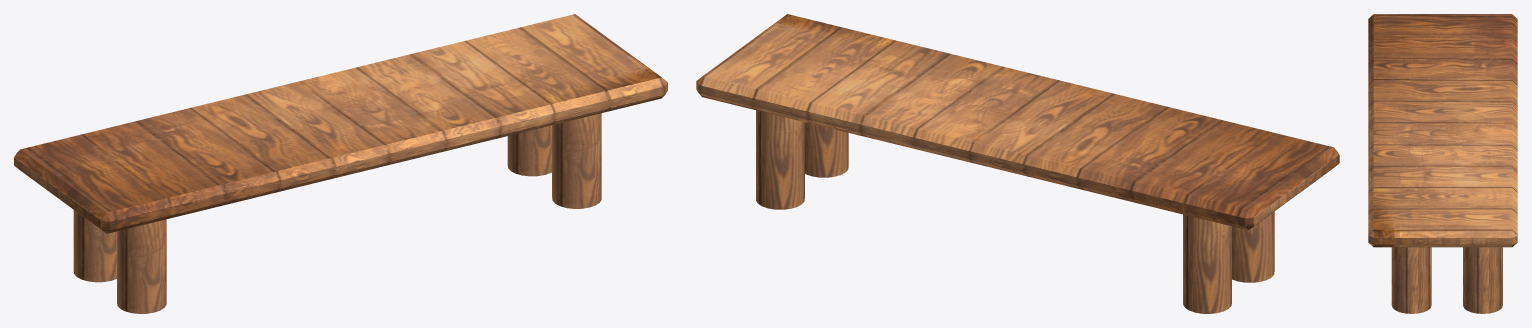
The model's file is Banco.obj.
3 renders of one model, left to right at view 1: azimuth 30°, elevation 25°; view 2: azimuth 150°, elevation 25°; view 3: azimuth 270°, elevation 25°, orthographic. The views are drawn at different scales.
Visible parts, largest first — view 1: Banco:pCylinder2; view 2: Banco:pCylinder2; view 3: Banco:pCylinder2.
Boxes of the visible parts, x1,y1,x2,y2 form: Banco:pCylinder2: (14,14,667,313); Banco:pCylinder2: (696,14,1339,313); Banco:pCylinder2: (1368,14,1517,313).
Size of the model in its own units: 1.14 by 0.2373 by 0.3255.
Materials: 1 (1 with a texture image).
